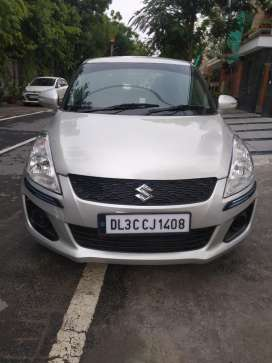license_plate: (101, 214, 196, 232)
